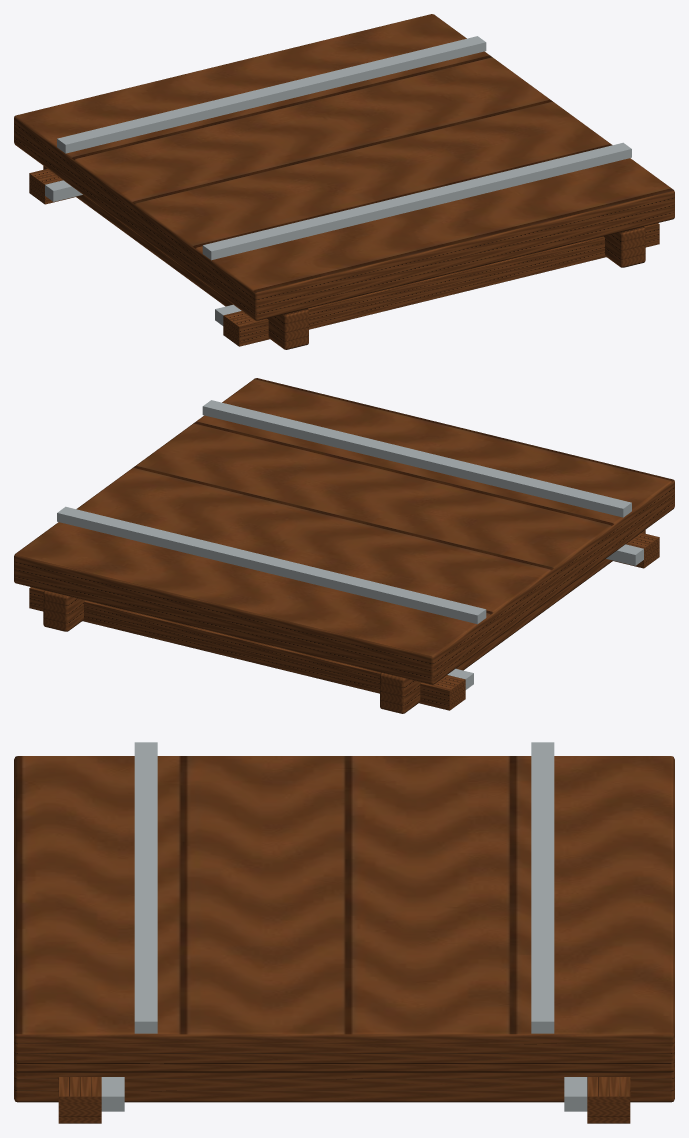
File: modular-survival-base-builder-cross-joist-floor-reinfo-9a11778b__24278.glb
3 views of the same model, one above another, from view 1: azimuth 30°, elevation 25°; view 2: azimuth 150°, elevation 25°; view 3: azimuth 270°, elevation 25° (orthographic). The views are drawn at different scales.
Visible parts, largest first — view 1: cross-joist-floor-reinforced; view 2: cross-joist-floor-reinforced; view 3: cross-joist-floor-reinforced.
Part boxes in pixels (box(x1,y1,x2,y2)): cross-joist-floor-reinforced: box(14, 14, 674, 349); cross-joist-floor-reinforced: box(14, 378, 674, 713); cross-joist-floor-reinforced: box(14, 742, 674, 1123).
Size of the model in its own units: 2 by 0.3401 by 2.
Materials: 2 (1 with a texture image).
